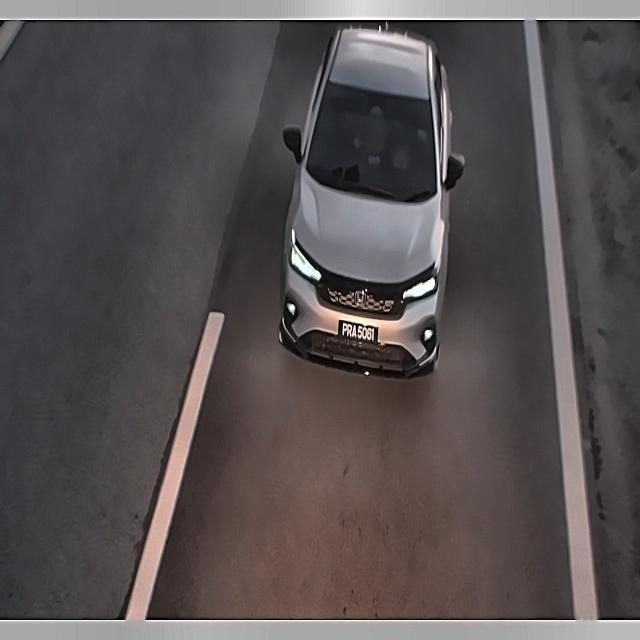car: (334, 315, 385, 349)
